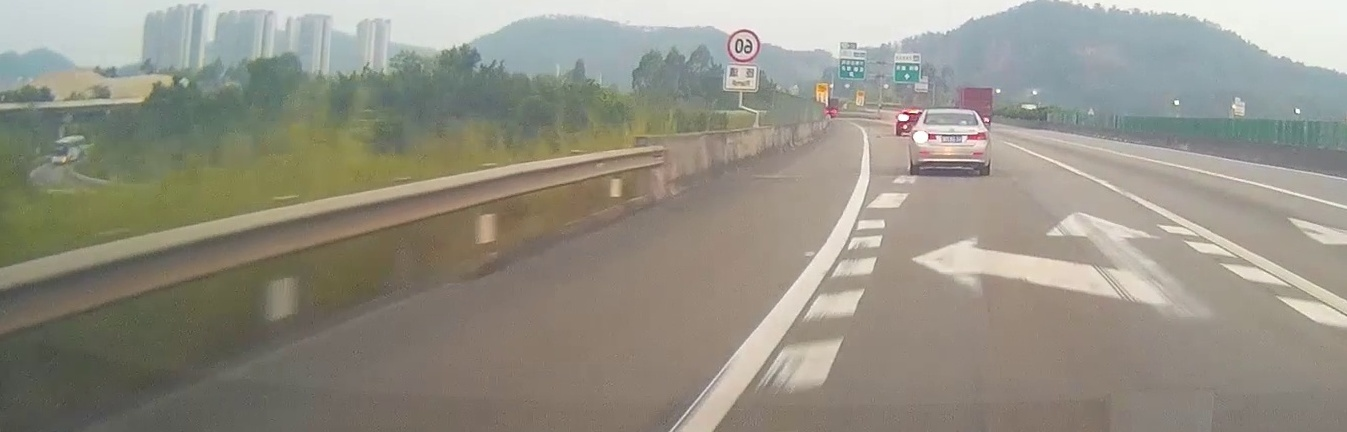L_light: (912, 131, 936, 140)
R_light: (967, 132, 985, 140)
T_light: (941, 113, 955, 117)
day-left: (909, 108, 991, 176)
